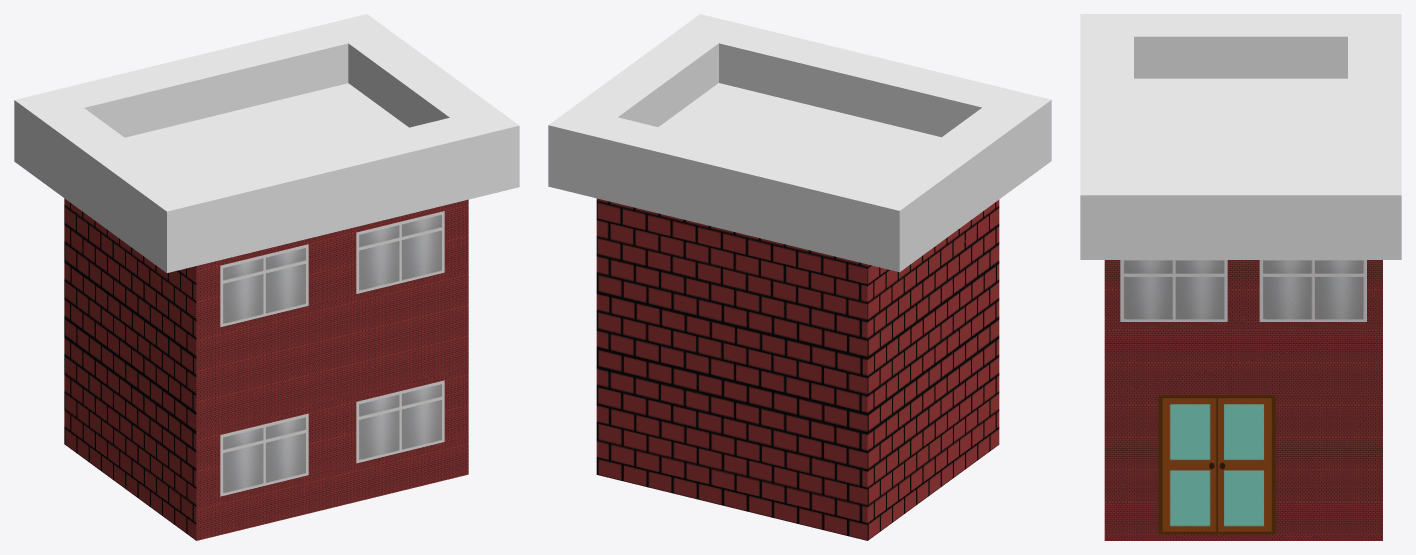
The model's file is jcut_0.fbx.
3 views of the same model, side by side, from view 1: azimuth 30°, elevation 25°; view 2: azimuth 150°, elevation 25°; view 3: azimuth 270°, elevation 25° (orthographic). The views are drawn at different scales.
Parts seen in each view (by area): view 1: CityEngineMaterial_m, CityEngineMaterial_1_m, CityEngineMaterial_2_m; view 2: CityEngineMaterial_m, CityEngineMaterial_1_m; view 3: CityEngineMaterial_1_m, CityEngineMaterial_m, CityEngineMaterial_3_m, CityEngineMaterial_2_m.
Boxes of the visible parts, x1,y1,x2,y2 form: CityEngineMaterial_m: (64,198,468,540); CityEngineMaterial_1_m: (14,14,519,272); CityEngineMaterial_2_m: (220,211,444,496); CityEngineMaterial_m: (596,198,999,540); CityEngineMaterial_1_m: (548,14,1051,272); CityEngineMaterial_1_m: (1080,14,1401,259); CityEngineMaterial_m: (1104,260,1382,540); CityEngineMaterial_3_m: (1158,395,1275,534); CityEngineMaterial_2_m: (1120,260,1366,321).
Size of the model in its own units: 11.99 by 11.29 by 8.97.
